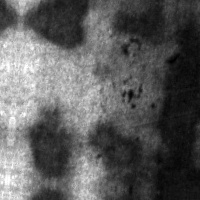patches: (152, 13, 199, 195), (85, 118, 146, 185), (26, 105, 75, 178), (23, 0, 89, 50), (112, 0, 168, 43)
